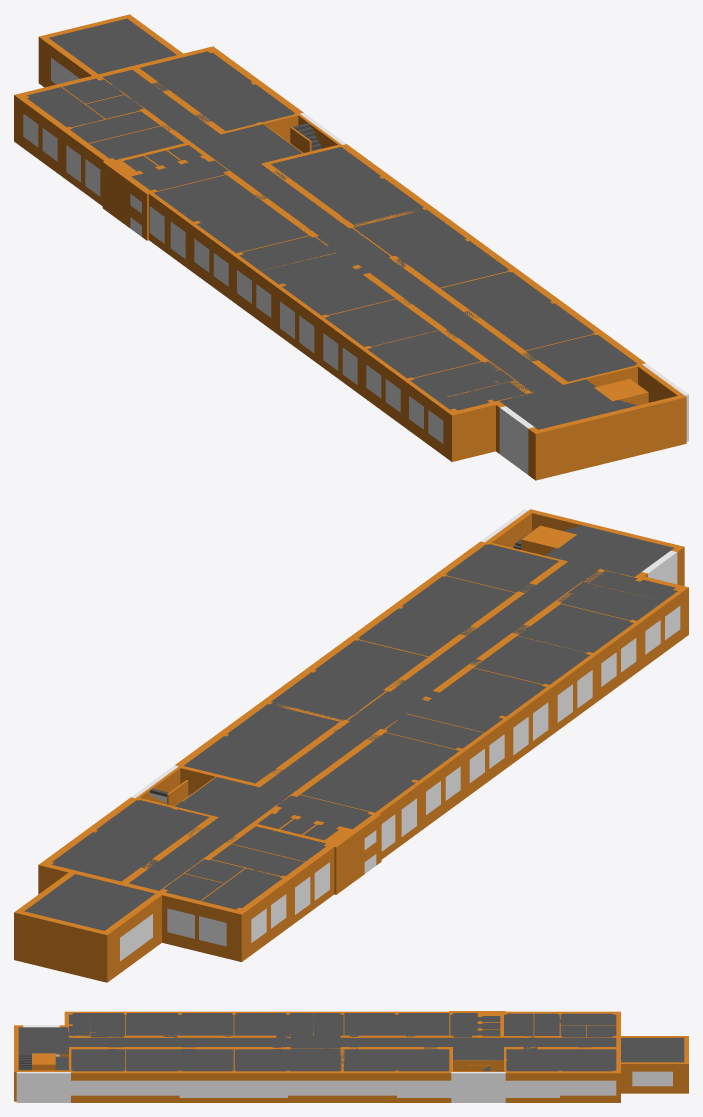
The picture shows the model from 3 angles, top to bottom: view 1: azimuth 30°, elevation 25°; view 2: azimuth 150°, elevation 25°; view 3: azimuth 270°, elevation 25°; orthographic projection. The views are drawn at different scales.
Parts seen in each view (by area): view 1: 0.228, 2.2391, 0.224, 0.223, 2.2459, 2.2511, 3.345, 0.214, 1.1615, 2.2393; view 2: 0.228, 0.214, 0.224, 0.223, 2.2511, 2.2391, 2.2682, 1.1615, 2.2498, 2.2393, 0.218, 3.345 (+1 smaller); view 3: 0.228, 1.1563, 1.1565, 0.224, 0.223, 0.214, 1.1564, 1.1567, 1.1571, 1.1568, 1.1562, 1.1566 (+32 smaller).
Part boxes in pixels (x1,y1,x2,y2): 0.228: (27,51,636,410); 2.2391: (528,394,686,480); 0.224: (49,19,176,74); 0.223: (499,379,625,429); 2.2459: (443,400,505,461); 2.2511: (102,142,210,227); 3.345: (499,406,534,474); 0.214: (38,14,182,87); 1.1615: (594,379,648,405); 2.2393: (638,365,682,402); 0.228: (52,544,677,909); 0.214: (14,872,161,982); 0.224: (24,874,154,930); 0.223: (545,526,673,576); 2.2511: (250,809,364,894); 2.2391: (527,509,684,585); 2.2682: (226,906,251,962); 1.1615: (521,525,576,555); 2.2498: (38,861,128,894); 2.2393: (486,512,531,547); 0.218: (120,914,152,961); 3.345: (642,550,677,584); 0.228: (69,1013,616,1071); 1.1563: (451,1072,505,1102); 1.1565: (16,1072,70,1102); 0.224: (621,1038,684,1062); 0.223: (18,1027,68,1054); 0.214: (621,1036,688,1093); 1.1564: (505,1080,559,1097); 1.1567: (179,1080,233,1097); 1.1571: (397,1080,451,1097); 1.1568: (234,1080,287,1097); 1.1562: (560,1080,616,1095); 1.1566: (125,1080,179,1095).
Bounding box in the file's own units: 16.28 × 74.45 × 3.8.
